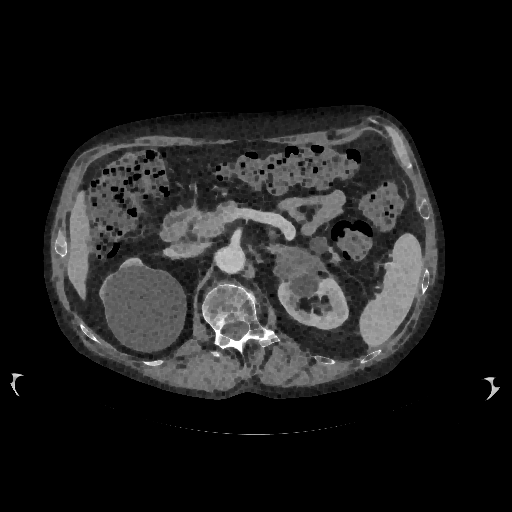Lesion: (270, 245, 323, 282)
